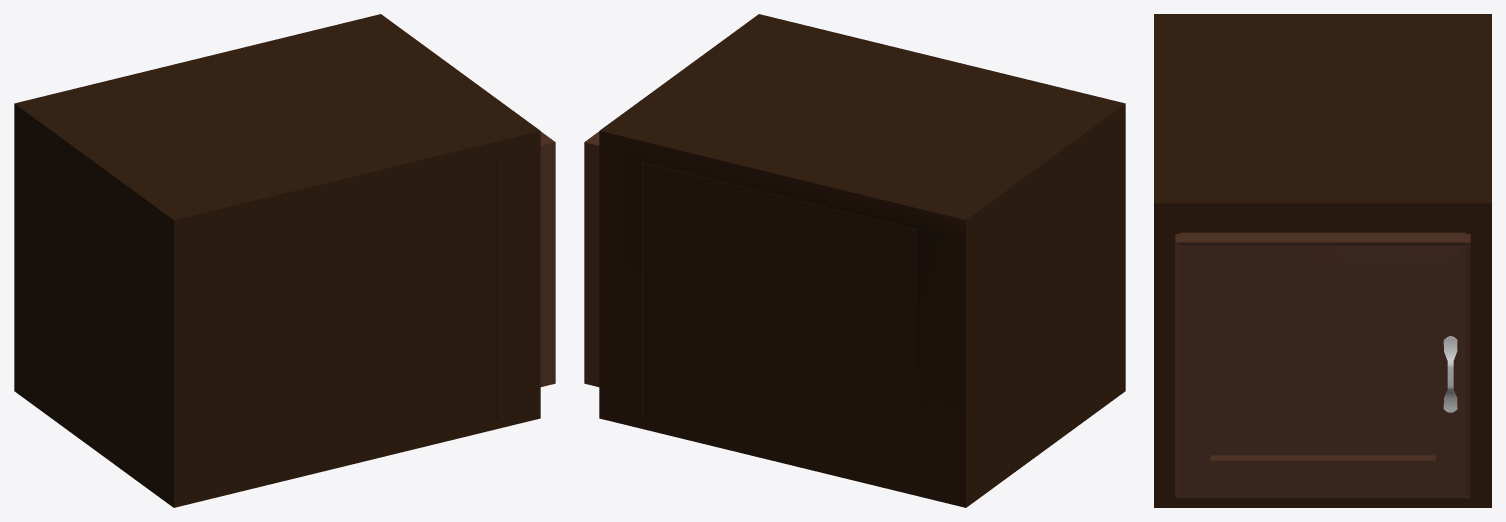
File: KitchenUpperCabinetSmall.fbx
The picture shows the model from 3 angles, left to right: view 1: azimuth 30°, elevation 25°; view 2: azimuth 150°, elevation 25°; view 3: azimuth 270°, elevation 25°; orthographic projection. The views are drawn at different scales.
Visible parts, largest first — view 1: smalluppercabinet; view 2: smalluppercabinet; view 3: smalluppercabinet.
Boxes of the visible parts, x1,y1,x2,y2 form: smalluppercabinet: (14,14,555,507); smalluppercabinet: (584,14,1125,507); smalluppercabinet: (1154,14,1491,507).
Bounding box in the file's own units: 88.38 × 60.96 × 61.25.
